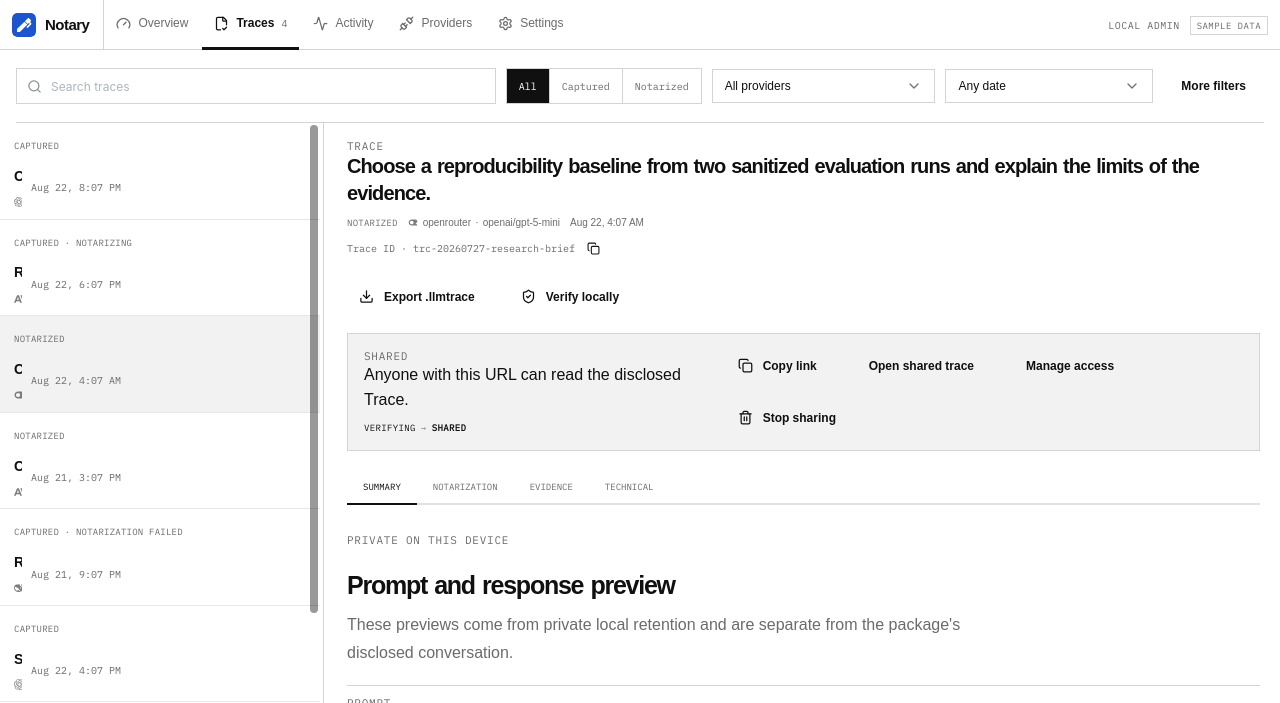
Test: Notary admin dashboard › restores a persisted share when the Trace inspector reloads
Expected: the button "Copy link" is shown, [726,348,835,384]
Click the button "Stop sharing" at coordinates (790, 418), box [726,400,854,436]
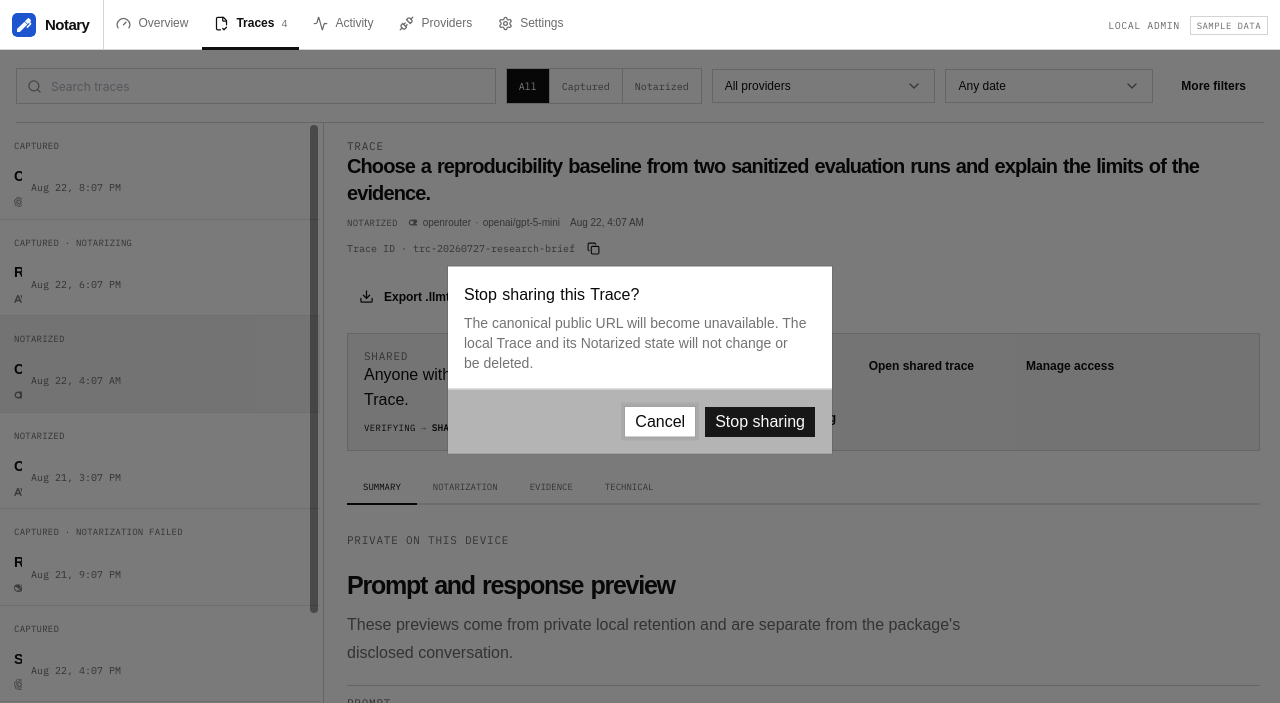
Click the button "Stop sharing" at coordinates (760, 422), box [704,406,816,438]
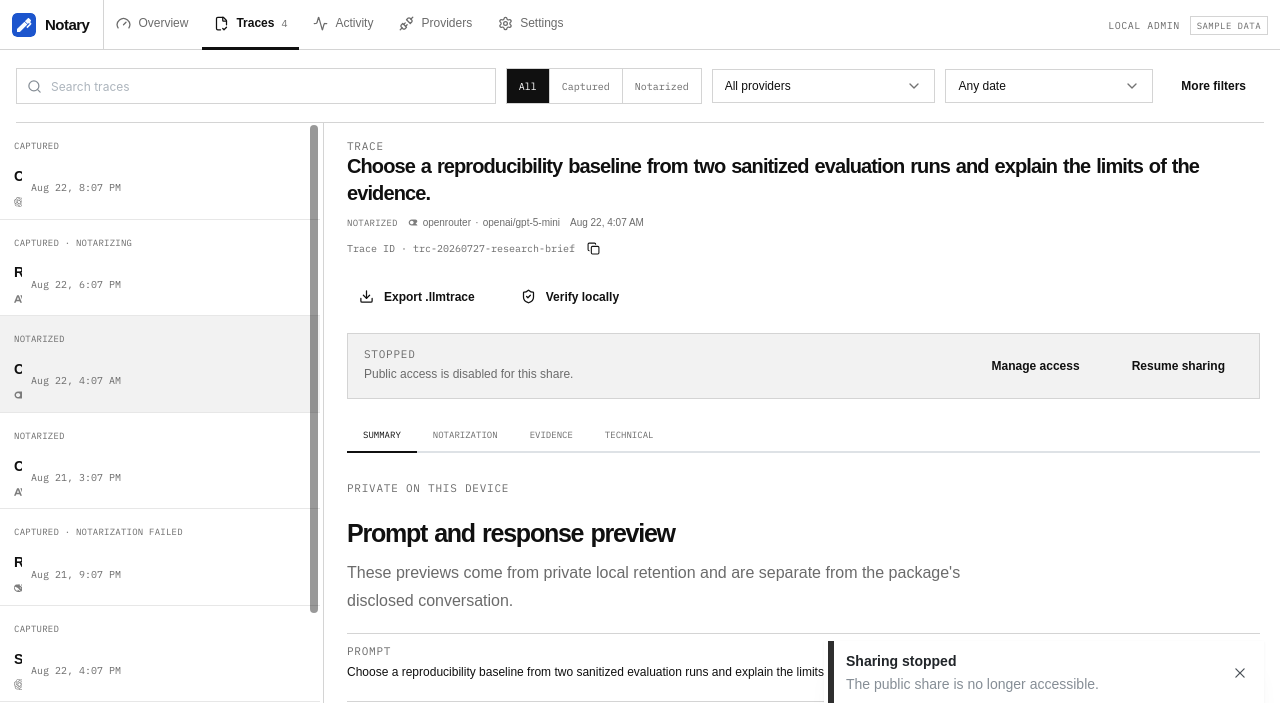
Click the button "Manage access" at coordinates (1036, 366), box [974,348,1098,384]
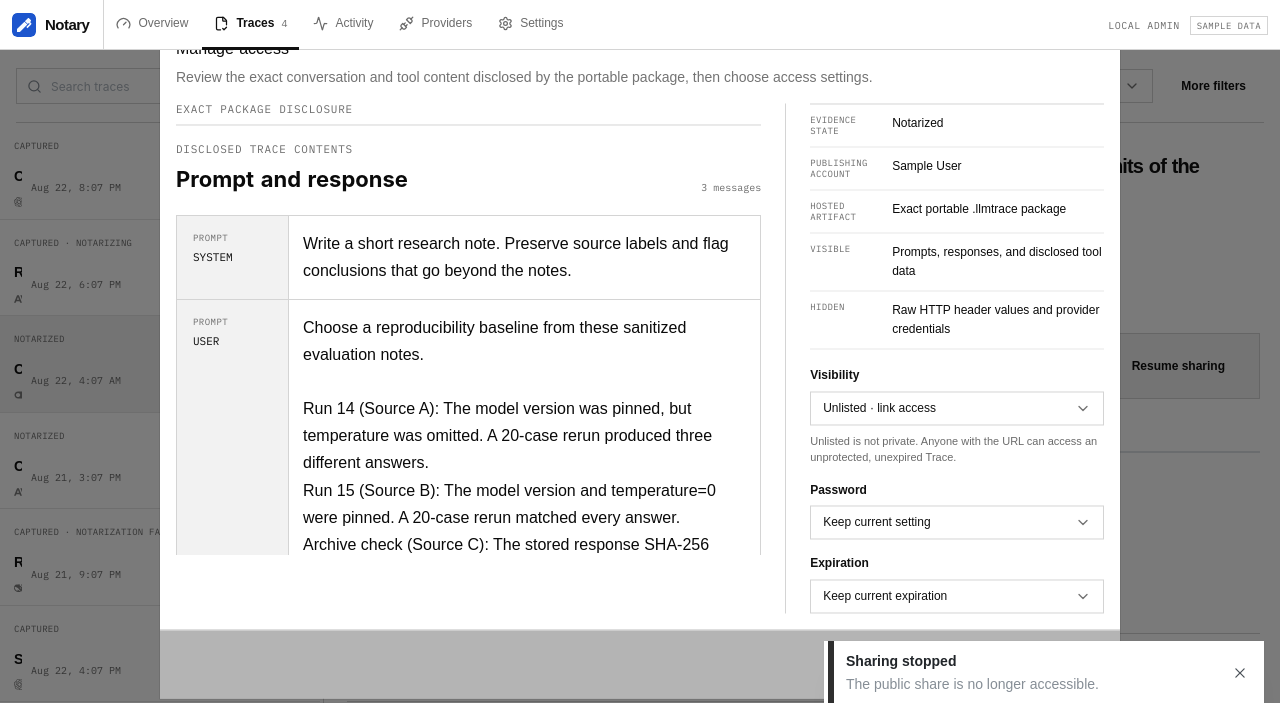
Click the button "Save access" at coordinates (1050, 664), box [997,646,1104,682]
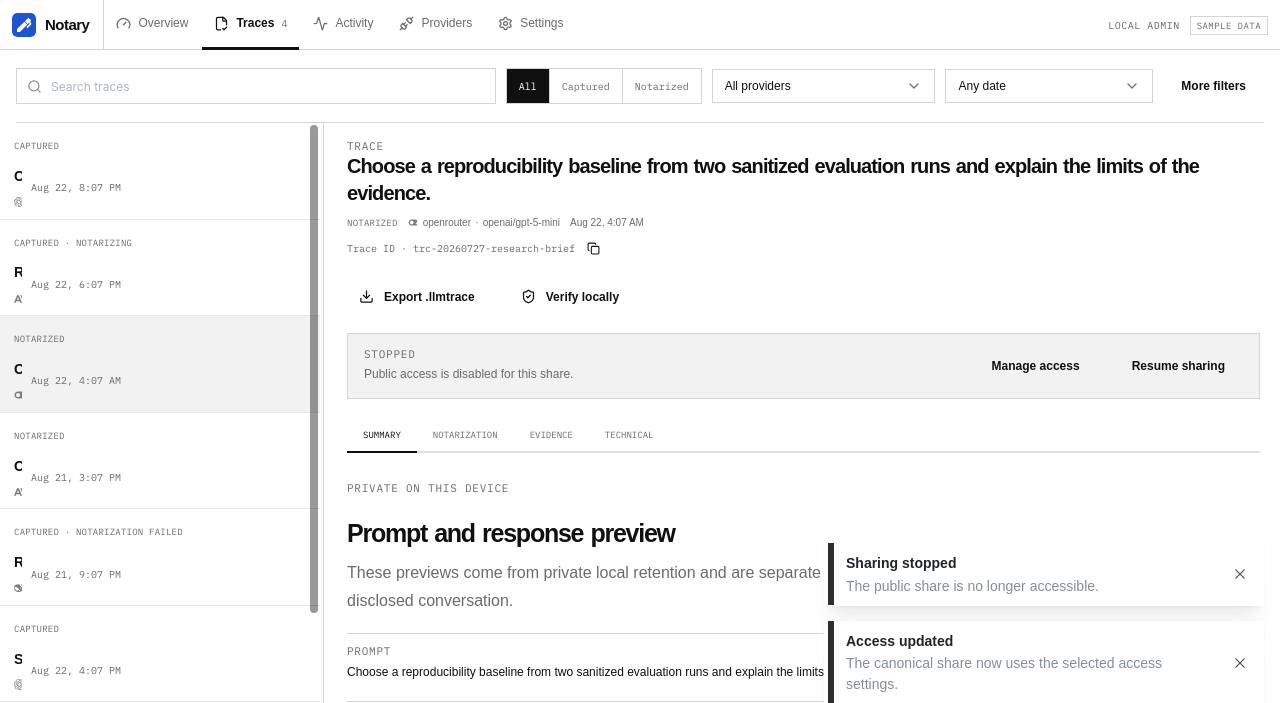
Click the button "Resume sharing" at coordinates (1178, 366), box [1114,348,1243,384]
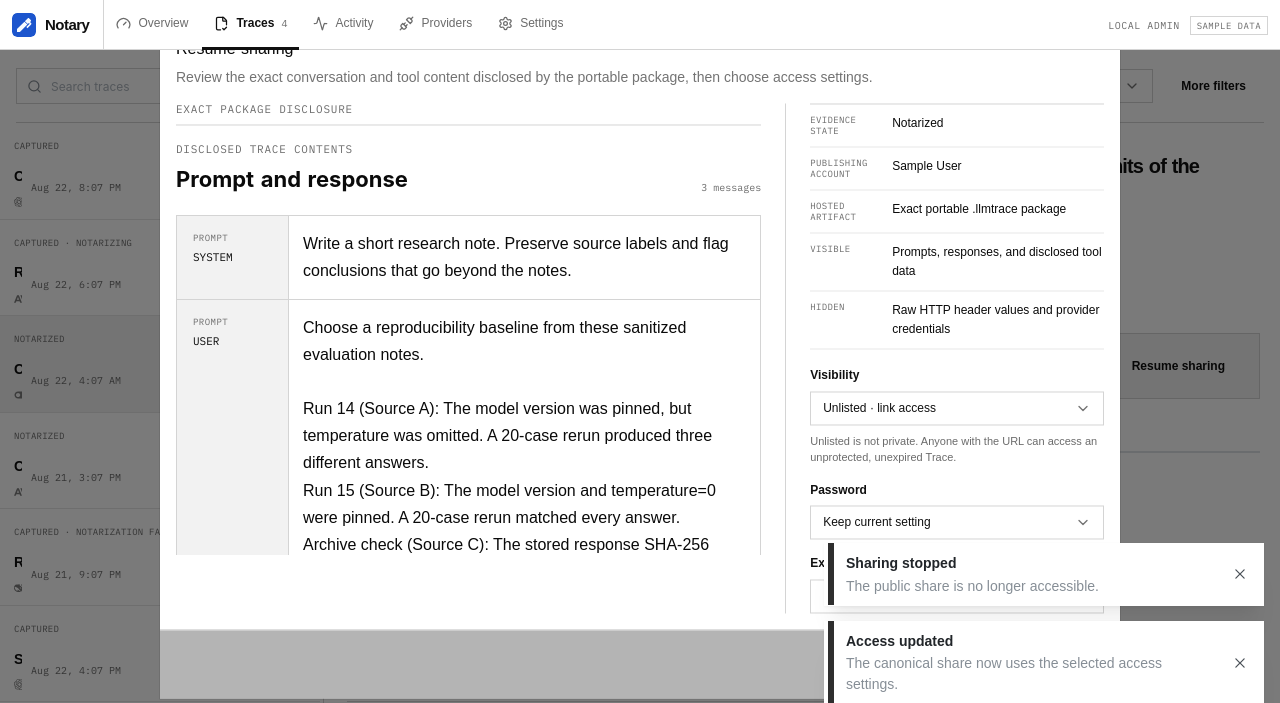
Expected: the heading "Resume sharing" is shown, [176,38,294,62]
Click the button "Resume sharing" at coordinates (1039, 664), box [975,646,1104,682]
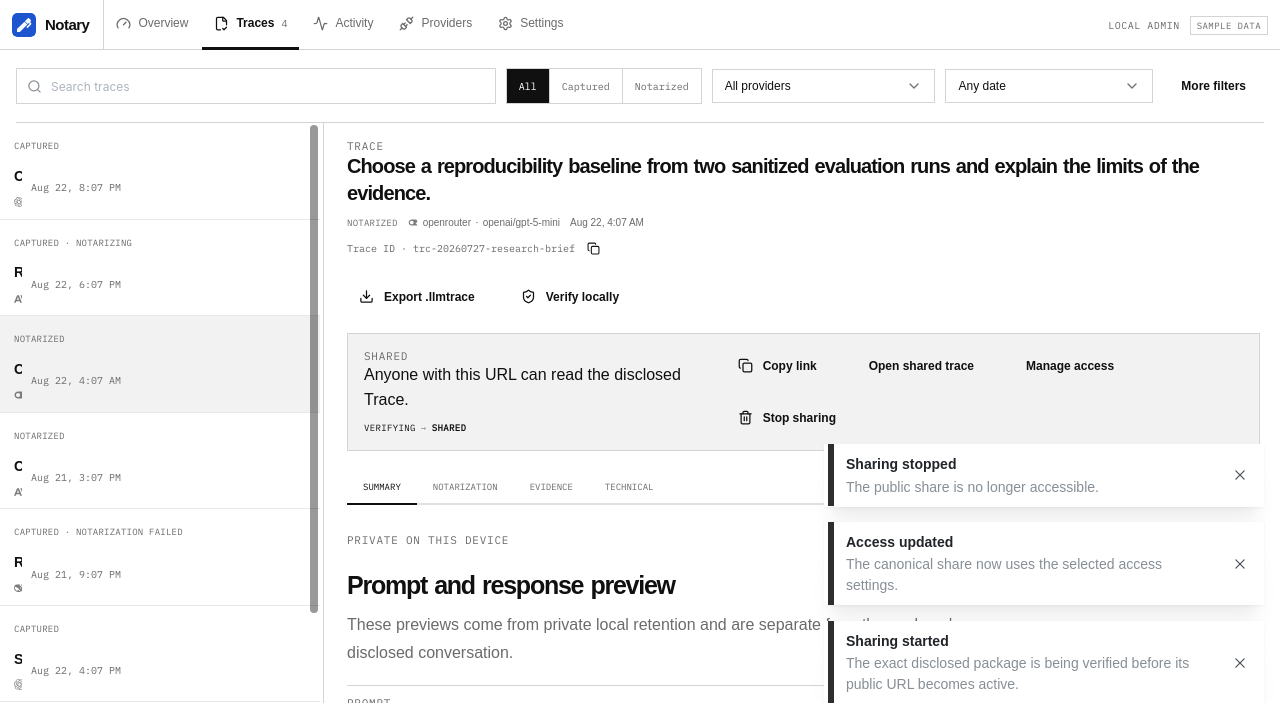
Expected: the button "Copy link" is shown, [726,348,835,384]
